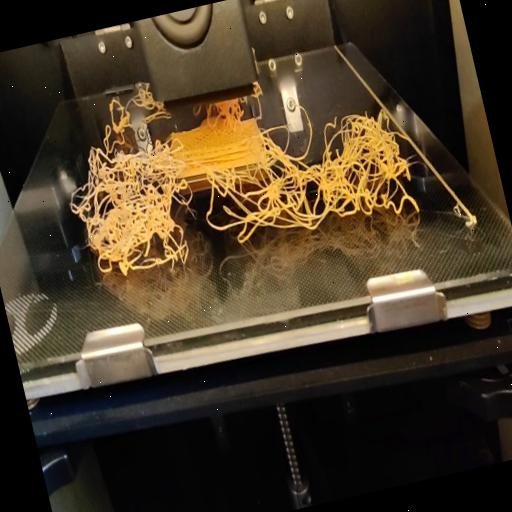spaghetti: (54, 61, 422, 299), (105, 81, 160, 127)
